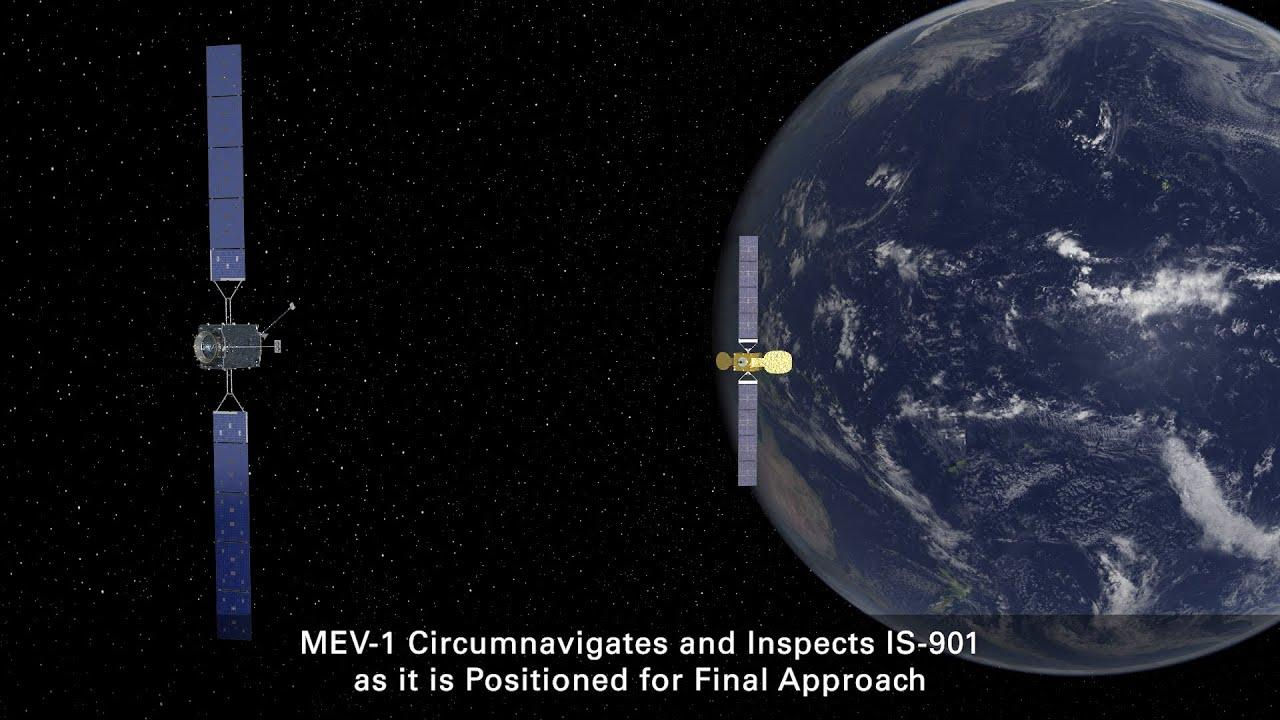antenna: (256, 302, 298, 338), (221, 338, 286, 356), (763, 349, 794, 376), (714, 350, 733, 372)
body: (196, 320, 265, 372), (733, 352, 763, 372)
solar: (203, 42, 248, 284), (210, 406, 255, 646), (736, 372, 761, 489), (736, 231, 760, 351)
thruster: (193, 328, 219, 366), (738, 358, 745, 365)
